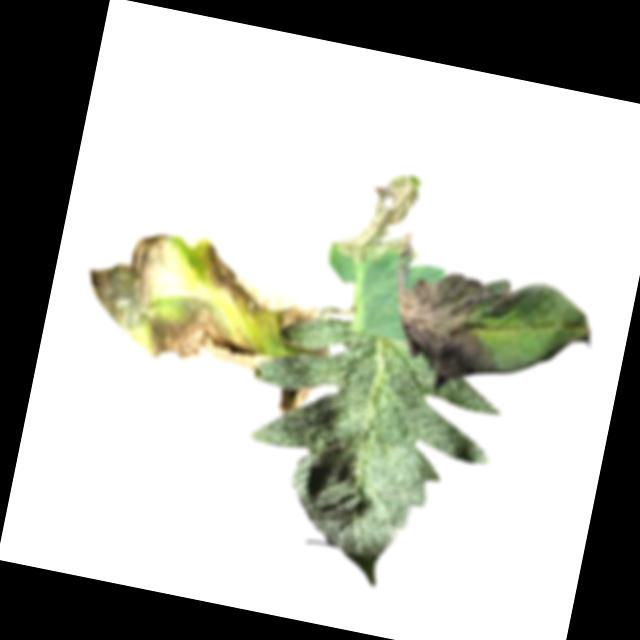Late_blight: (73, 208, 298, 383), (384, 261, 544, 405), (331, 163, 426, 272), (281, 290, 352, 340), (275, 381, 313, 420)
healthy: (217, 308, 513, 604)
